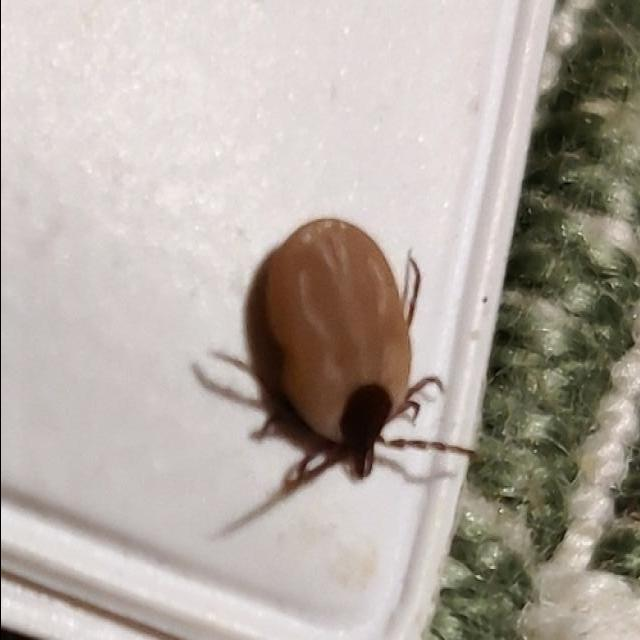Ixodes Ricinus-F-Fed: (192, 217, 443, 498)
